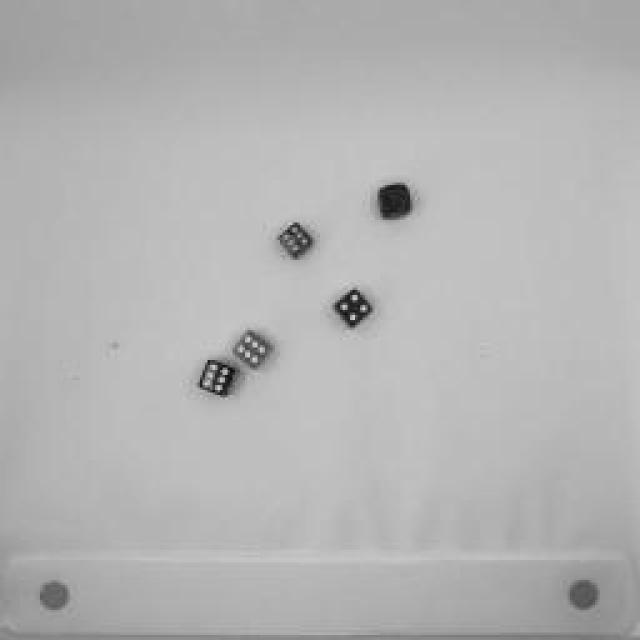dice_3: (367, 180, 415, 225)
dice_4: (334, 288, 376, 332)
dice_6: (195, 358, 240, 402), (276, 221, 314, 261), (232, 330, 272, 368)
